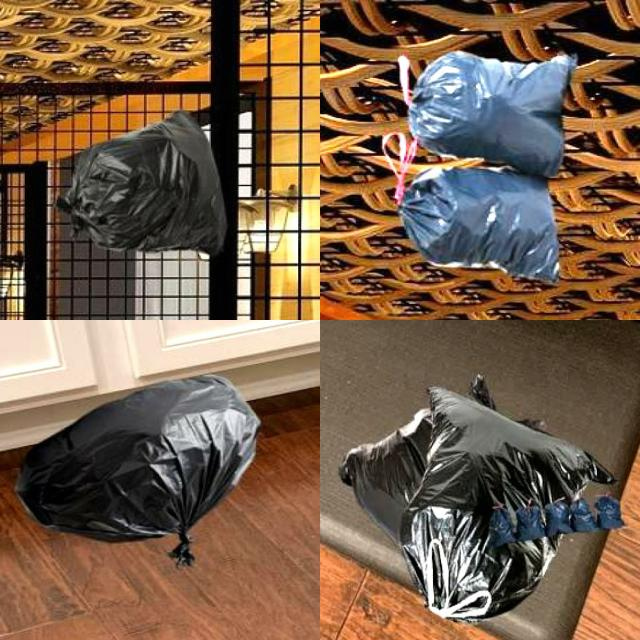Single-layer Plastic: (340, 375, 622, 621), (18, 375, 260, 565), (384, 132, 559, 284), (60, 111, 226, 255), (398, 51, 576, 177)
